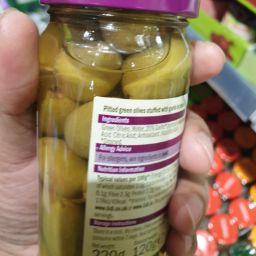Olives: (40, 35, 97, 171), (111, 19, 193, 97), (36, 131, 85, 256), (59, 18, 120, 93)
